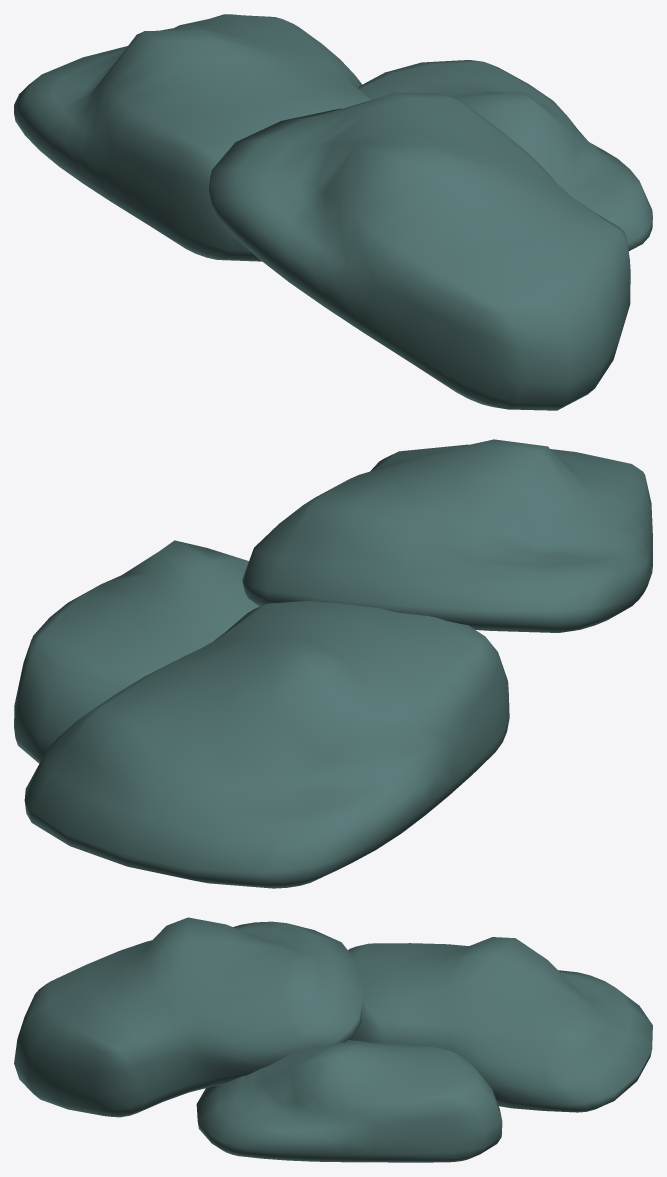
The model's file is rock1.fbx.
The picture shows the model from 3 angles, top to bottom: view 1: azimuth 30°, elevation 25°; view 2: azimuth 150°, elevation 25°; view 3: azimuth 270°, elevation 25°; orthographic projection. The views are drawn at different scales.
Visible parts, largest first — view 1: node_id62; view 2: node_id62; view 3: node_id62.
Part boxes in pixels (x1,y1,x2,y2): node_id62: [14, 14, 652, 410]; node_id62: [14, 439, 652, 888]; node_id62: [14, 917, 652, 1162].
Bounding box in the file's own units: 0.512 × 0.2299 × 0.8956.
Materials: 1 (1 with a texture image).
